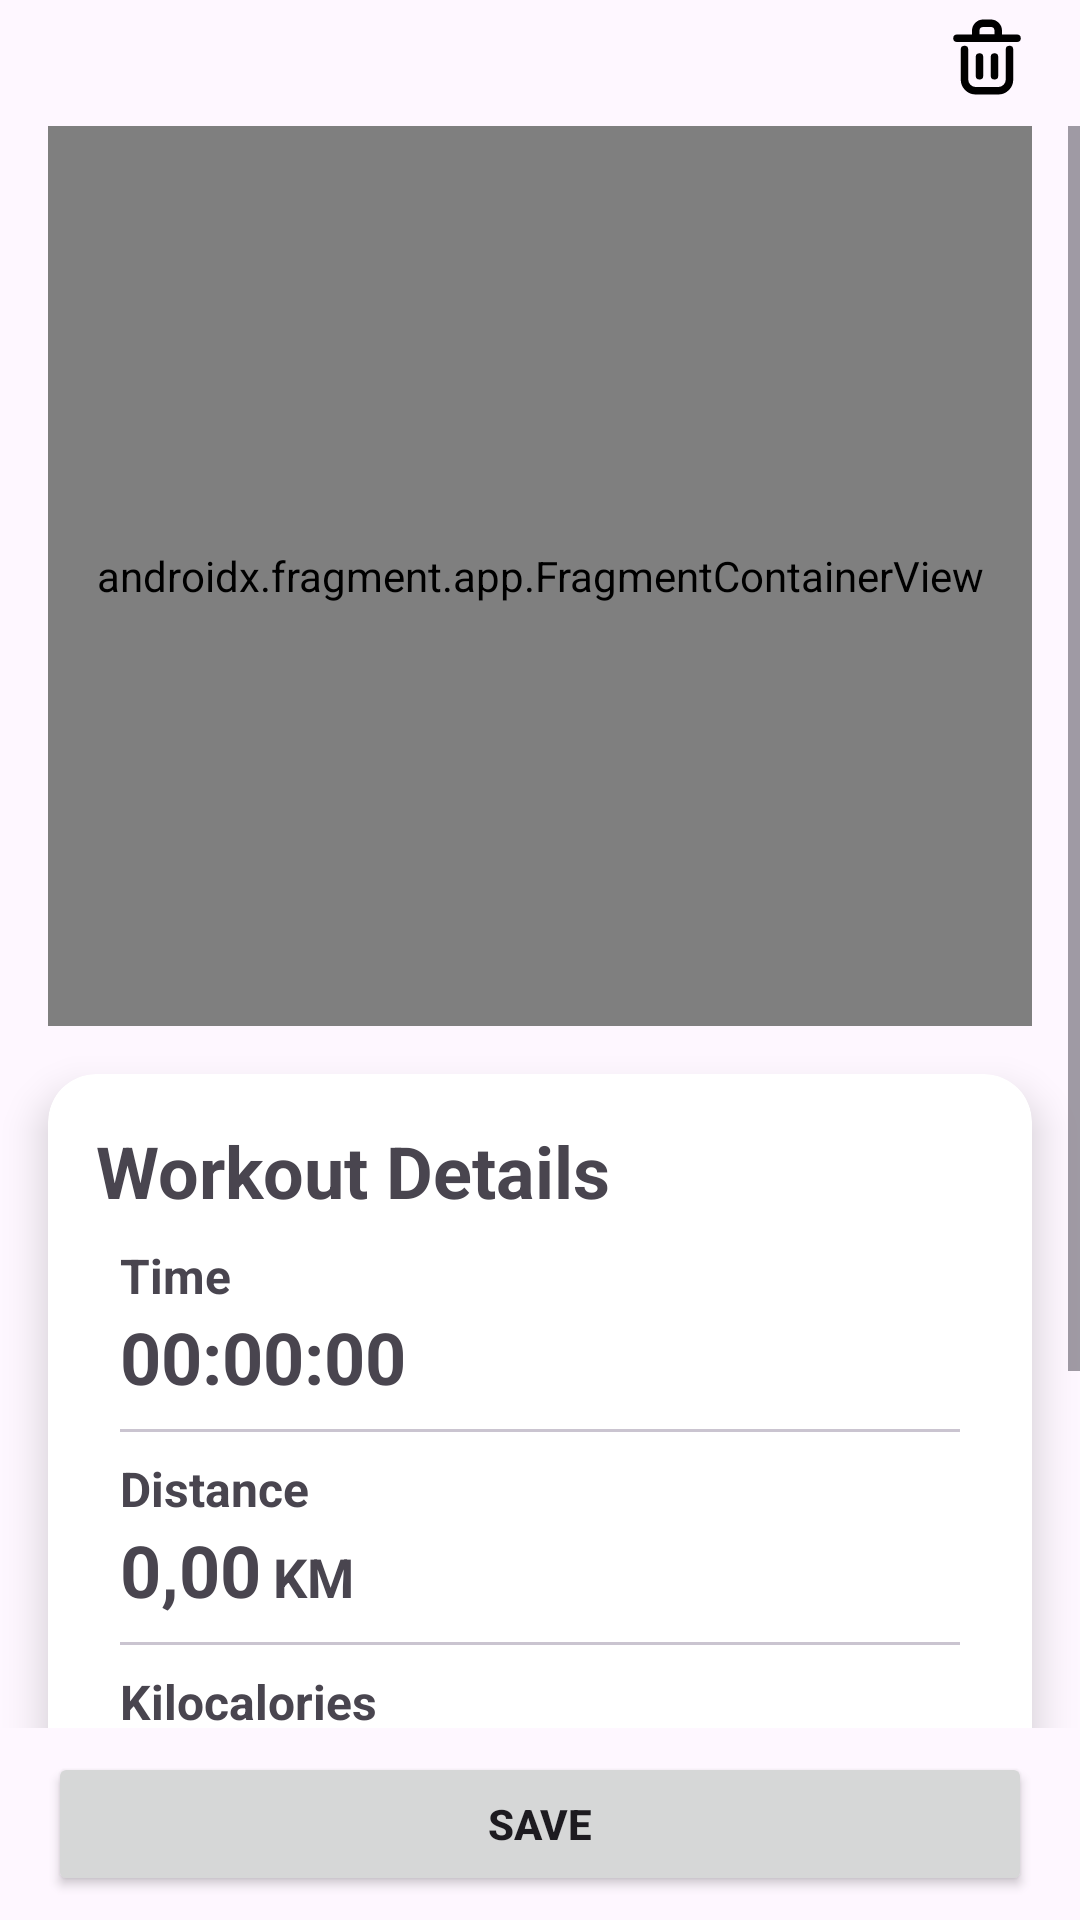

Where icons sit on this 1080w x 1920h app screen, as {"left": x1, "top": y1, "right": x2, "bottom": y2}:
delete: {"left": 953, "top": 19, "right": 1021, "bottom": 95}
